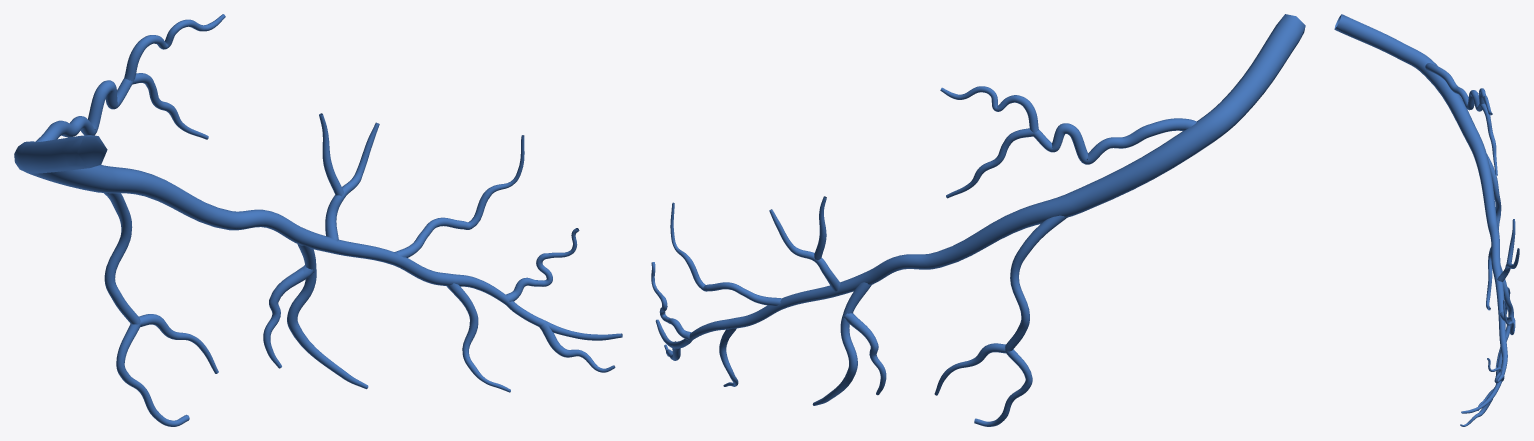
3 views of the same model, side by side, from view 1: azimuth 30°, elevation 25°; view 2: azimuth 150°, elevation 25°; view 3: azimuth 270°, elevation 25° (orthographic). The views are drawn at different scales.
Visible parts, largest first — view 1: 心中静脉; view 2: 心中静脉; view 3: 心中静脉.
Part boxes in pixels (left/top/right/bottom): 心中静脉: left=14, top=14, right=622, bottom=426; 心中静脉: left=651, top=14, right=1305, bottom=426; 心中静脉: left=1334, top=14, right=1519, bottom=426.
Size of the model in its own units: 0.1051 by 0.0736 by 0.0485.
